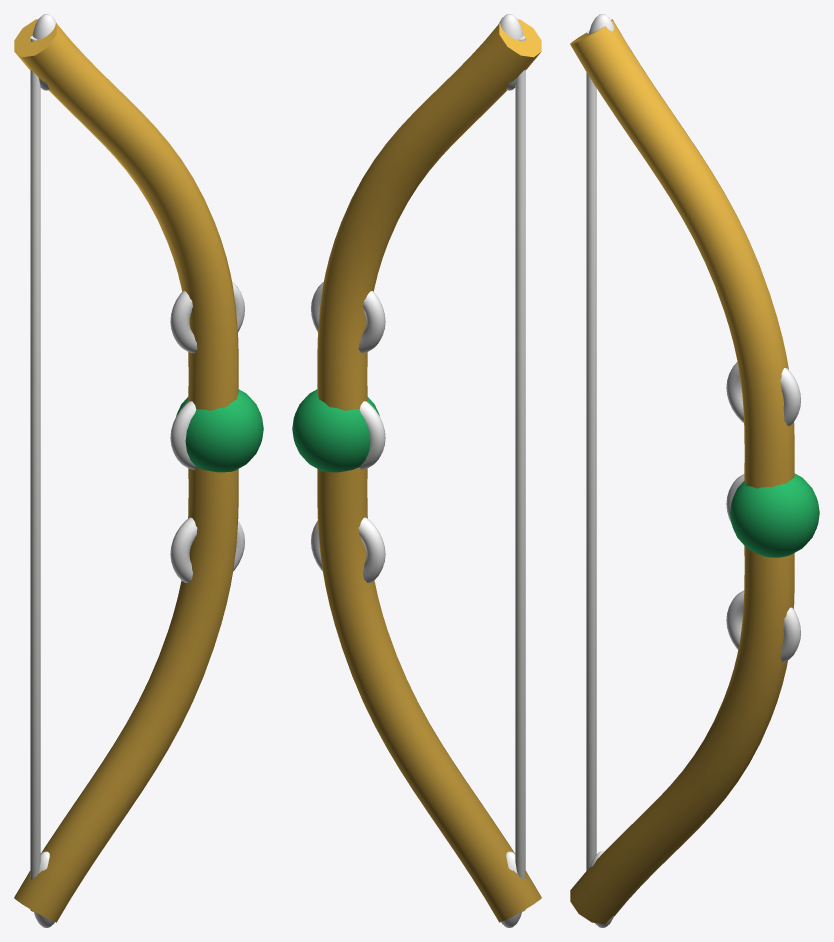
Rendered from arco_oro.glb.
3 views of the same model, side by side, from view 1: azimuth 30°, elevation 25°; view 2: azimuth 150°, elevation 25°; view 3: azimuth 330°, elevation 25° (orthographic).
Parts seen in each view (by area): view 1: arco_oro_fijo; view 2: arco_oro_fijo; view 3: arco_oro_fijo.
Part boxes in pixels (box(x1,y1,x2,y2)): arco_oro_fijo: box(14, 14, 263, 927); arco_oro_fijo: box(292, 14, 541, 927); arco_oro_fijo: box(570, 14, 819, 927).
Size of the model in its own units: 0.4312 by 1.57 by 0.14.
2 materials, 2 textured.
